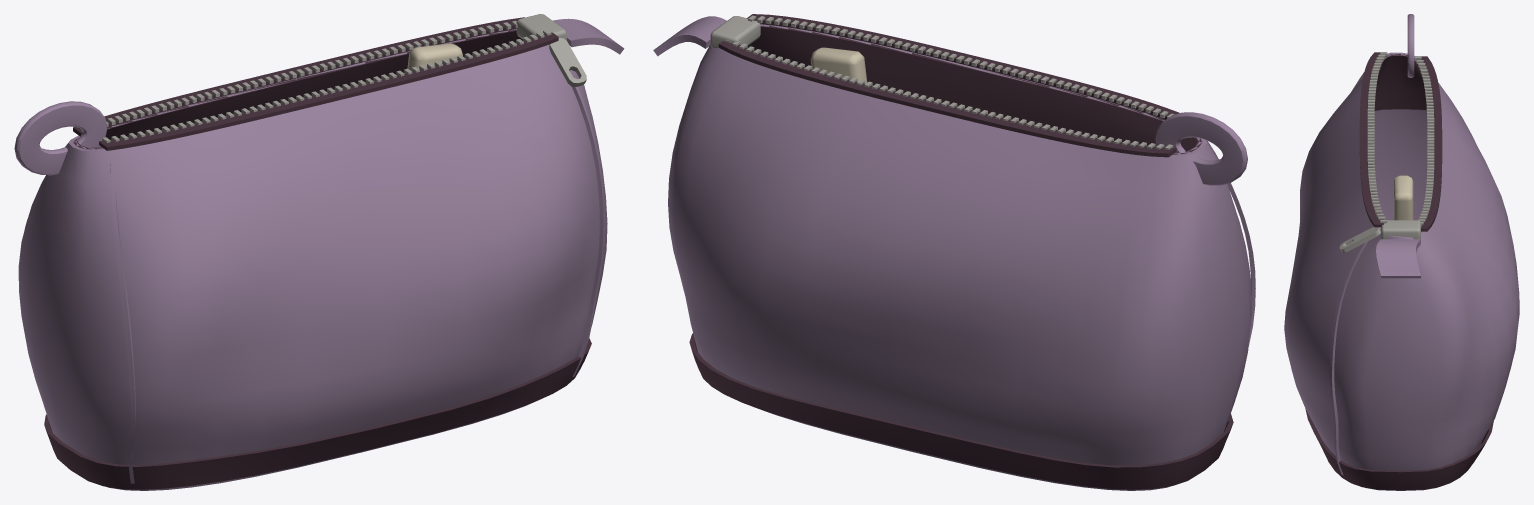
File: makeup-bag-7ce9504fafb3.glb
3 views of the same model, side by side, from view 1: azimuth 30°, elevation 25°; view 2: azimuth 150°, elevation 25°; view 3: azimuth 270°, elevation 25° (orthographic). The views are drawn at different scales.
Parts seen in each view (by area): view 1: cloth-lilac, cloth-plum, brushed, cloth-cream; view 2: cloth-lilac, cloth-plum, brushed, cloth-cream; view 3: cloth-lilac, cloth-plum, brushed, cloth-cream.
Boxes of the visible parts, box(x1,y1,x2,y2) form: cloth-lilac: box(14, 18, 624, 490); cloth-plum: box(44, 17, 591, 489); brushed: box(80, 14, 586, 143); cloth-cream: box(407, 43, 462, 70); cloth-lilac: box(653, 16, 1255, 490); cloth-plum: box(689, 14, 1233, 489); brushed: box(710, 15, 1174, 149); cloth-cream: box(810, 47, 867, 83); cloth-lilac: box(1284, 14, 1519, 490); cloth-plum: box(1305, 52, 1493, 490); brushed: box(1339, 52, 1434, 253); cloth-cream: box(1393, 175, 1413, 220).
Size of the model in its own units: 0.21 by 0.125 by 0.093.
